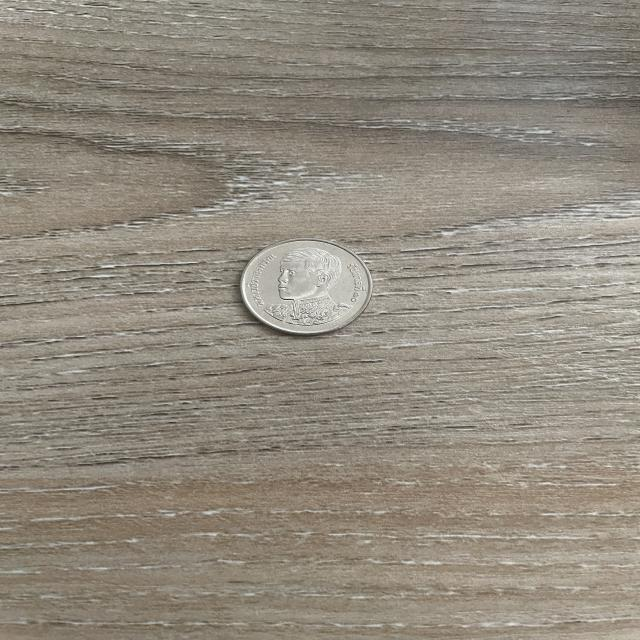1 Bath: (234, 233, 380, 343)
